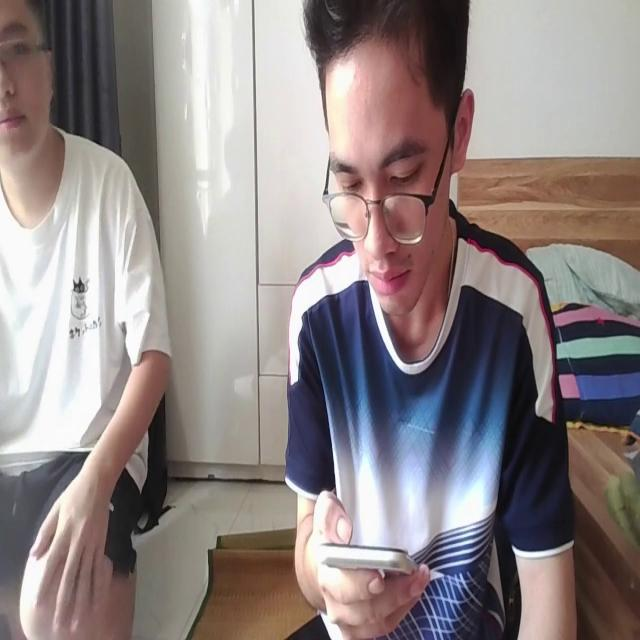extra_person: (1, 10, 174, 640)
phone: (314, 523, 421, 578)
student: (282, 0, 580, 640)
